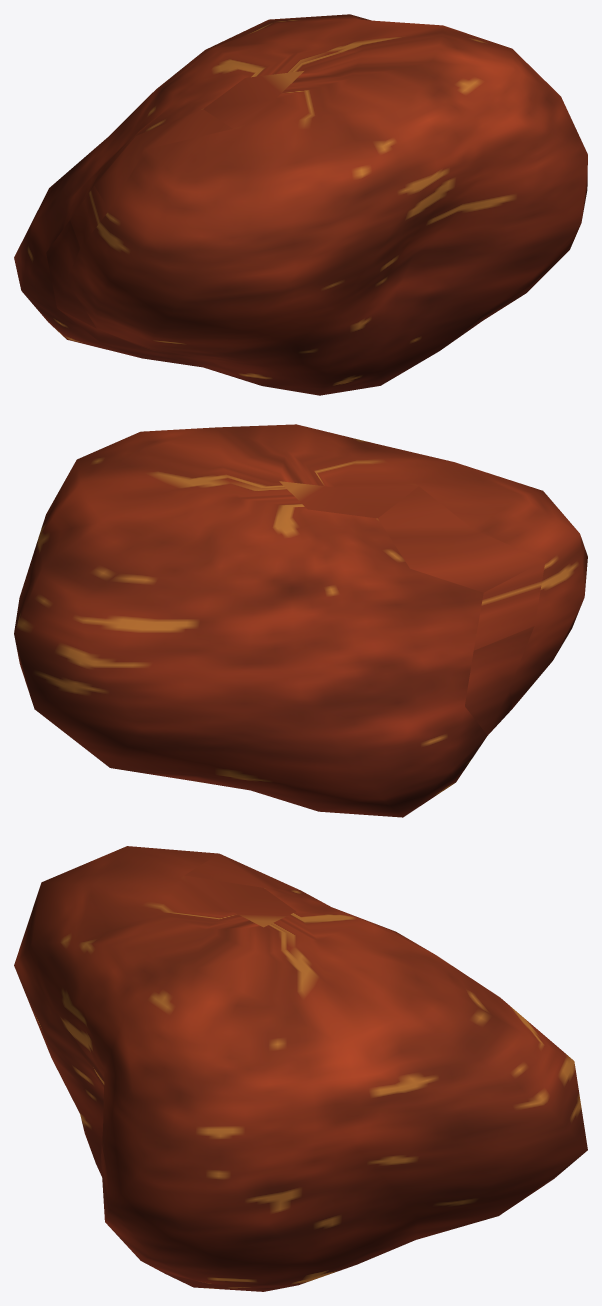
Rendered from ochrelump.glb.
3 renders of one model, top to bottom at view 1: azimuth 30°, elevation 25°; view 2: azimuth 150°, elevation 25°; view 3: azimuth 270°, elevation 25°, orthographic. The views are drawn at different scales.
Parts seen in each view (by area): view 1: ochrelump; view 2: ochrelump; view 3: ochrelump.
Boxes of the visible parts, x1,y1,x2,y2 form: ochrelump: (14, 14, 587, 395); ochrelump: (14, 424, 587, 817); ochrelump: (14, 846, 587, 1291).
Size of the model in its own units: 0.19 by 0.1133 by 0.1718.
1 material, 1 textured.
